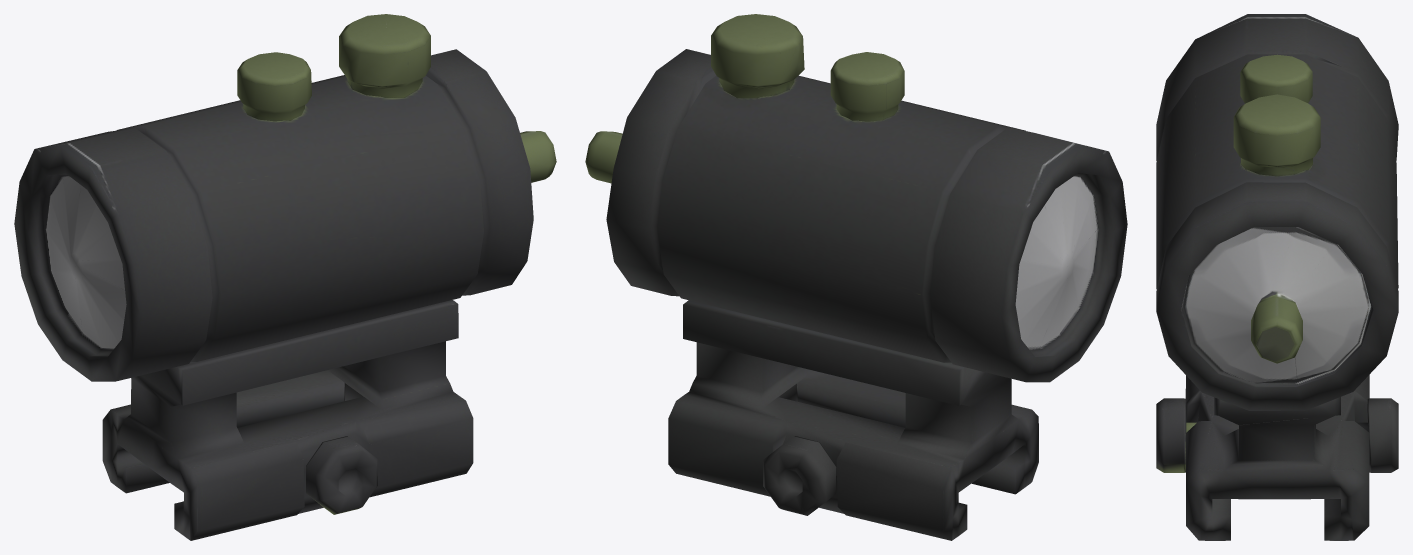
The model's file is sight_red_dot.glb.
3 renders of one model, left to right at view 1: azimuth 30°, elevation 25°; view 2: azimuth 150°, elevation 25°; view 3: azimuth 270°, elevation 25°, orthographic. The views are drawn at different scales.
Bounding box in the file's own units: 0.9619 × 0.8306 × 0.4443.
Materials: 1 (1 with a texture image).
